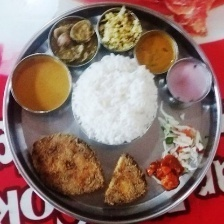dal: (135, 31, 176, 73)
